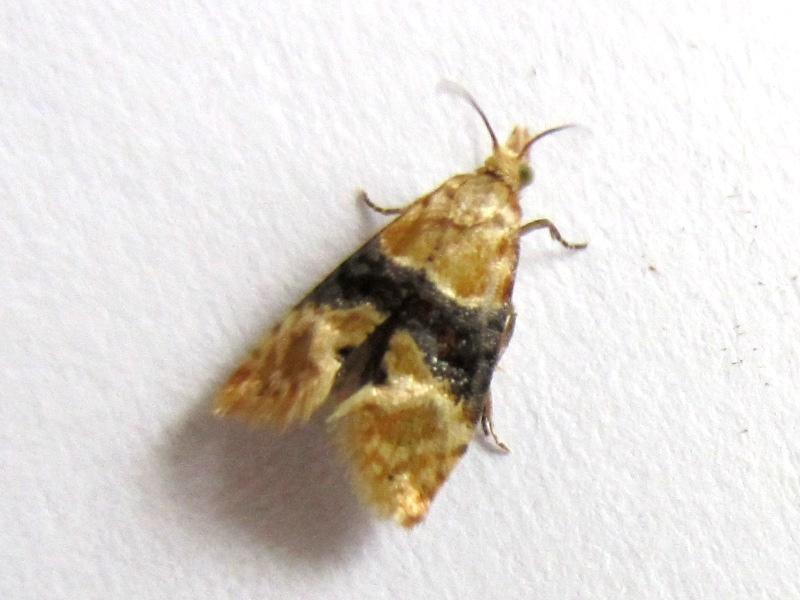Eupoecilia Ambiguella: (208, 75, 591, 532)
